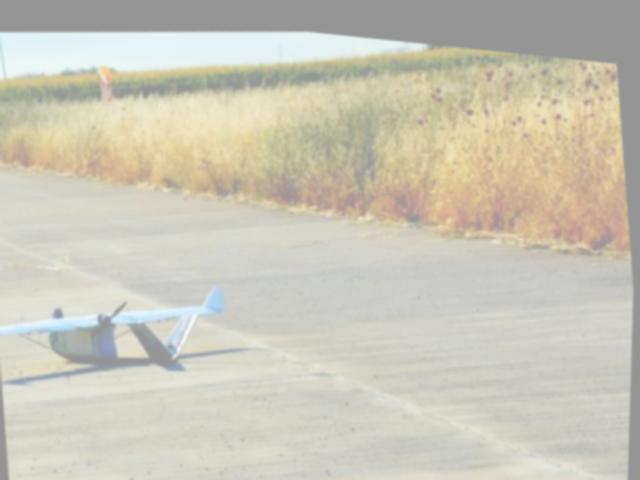iha: (0, 251, 236, 381)
